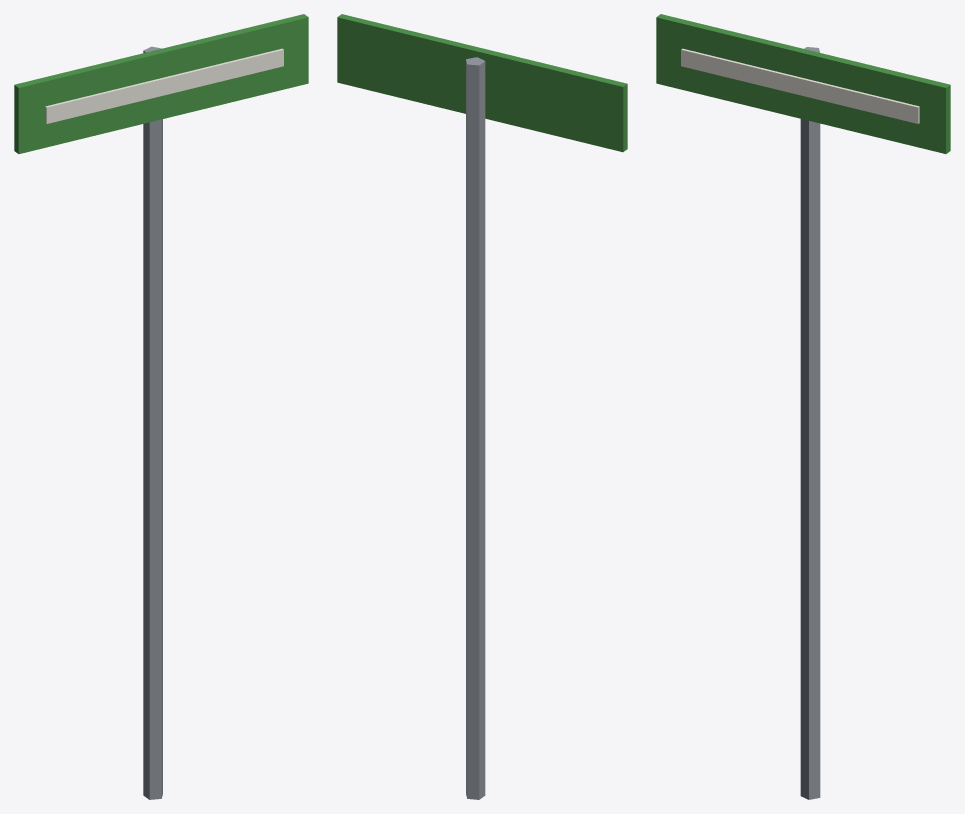
File: sign_street.glb
The picture shows the model from 3 angles, left to right: view 1: azimuth 30°, elevation 25°; view 2: azimuth 150°, elevation 25°; view 3: azimuth 330°, elevation 25°; orthographic projection.
Parts seen in each view (by area): view 1: sign_street; view 2: sign_street; view 3: sign_street.
Part boxes in pixels (x1,y1,x2,y2): sign_street: [14, 14, 308, 799]; sign_street: [337, 14, 627, 799]; sign_street: [656, 14, 950, 799].
Bounding box in the file's own units: 1.1 × 2.72 × 0.1083.
